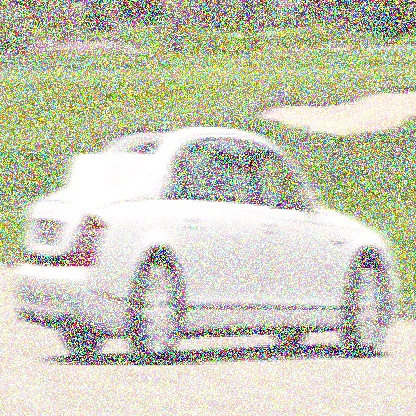Vehicle: (18, 129, 402, 366)
